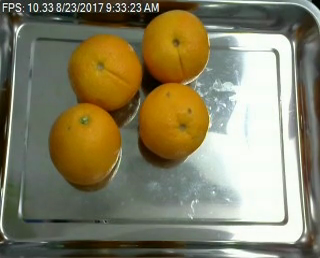Orange: (49, 103, 122, 185), (66, 34, 141, 110), (139, 82, 209, 157), (142, 10, 210, 85)
